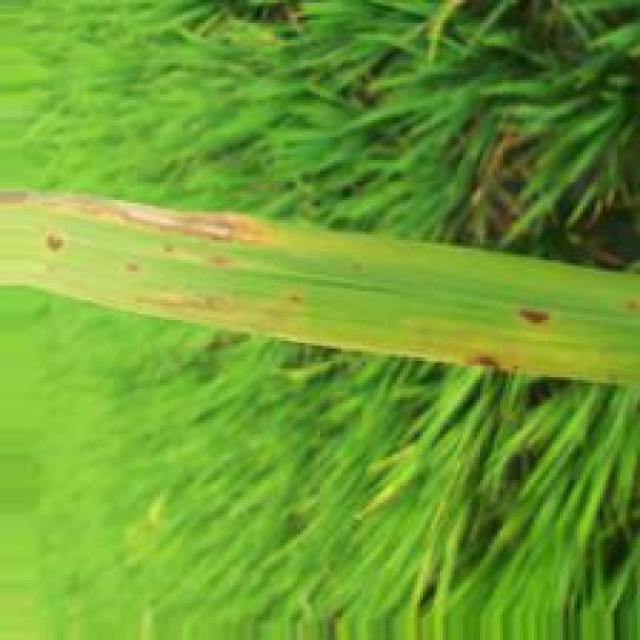Leaf_Blast: (0, 191, 640, 393)
